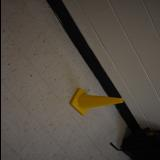cone: (70, 88, 122, 116)
